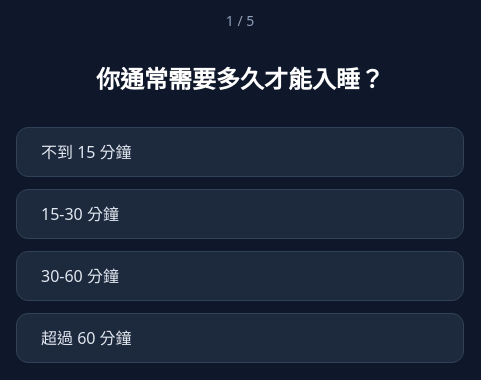
SleepAssessment — Navigation (AC#2, AC#3) › should show back button on Q2
This screenshot has width=481, height=380.
Click the button with test id "option-0": (86, 152) [16,127,464,177]
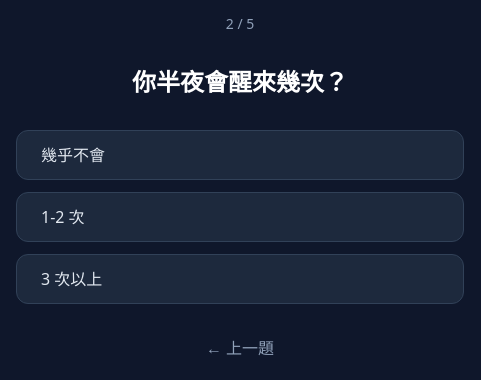
Expected: the button with test id "back-btn" is shown, [206,336,274,360]
